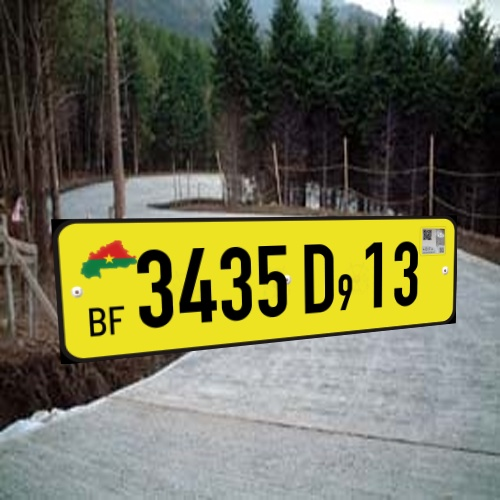plate: (37, 194, 470, 376)
